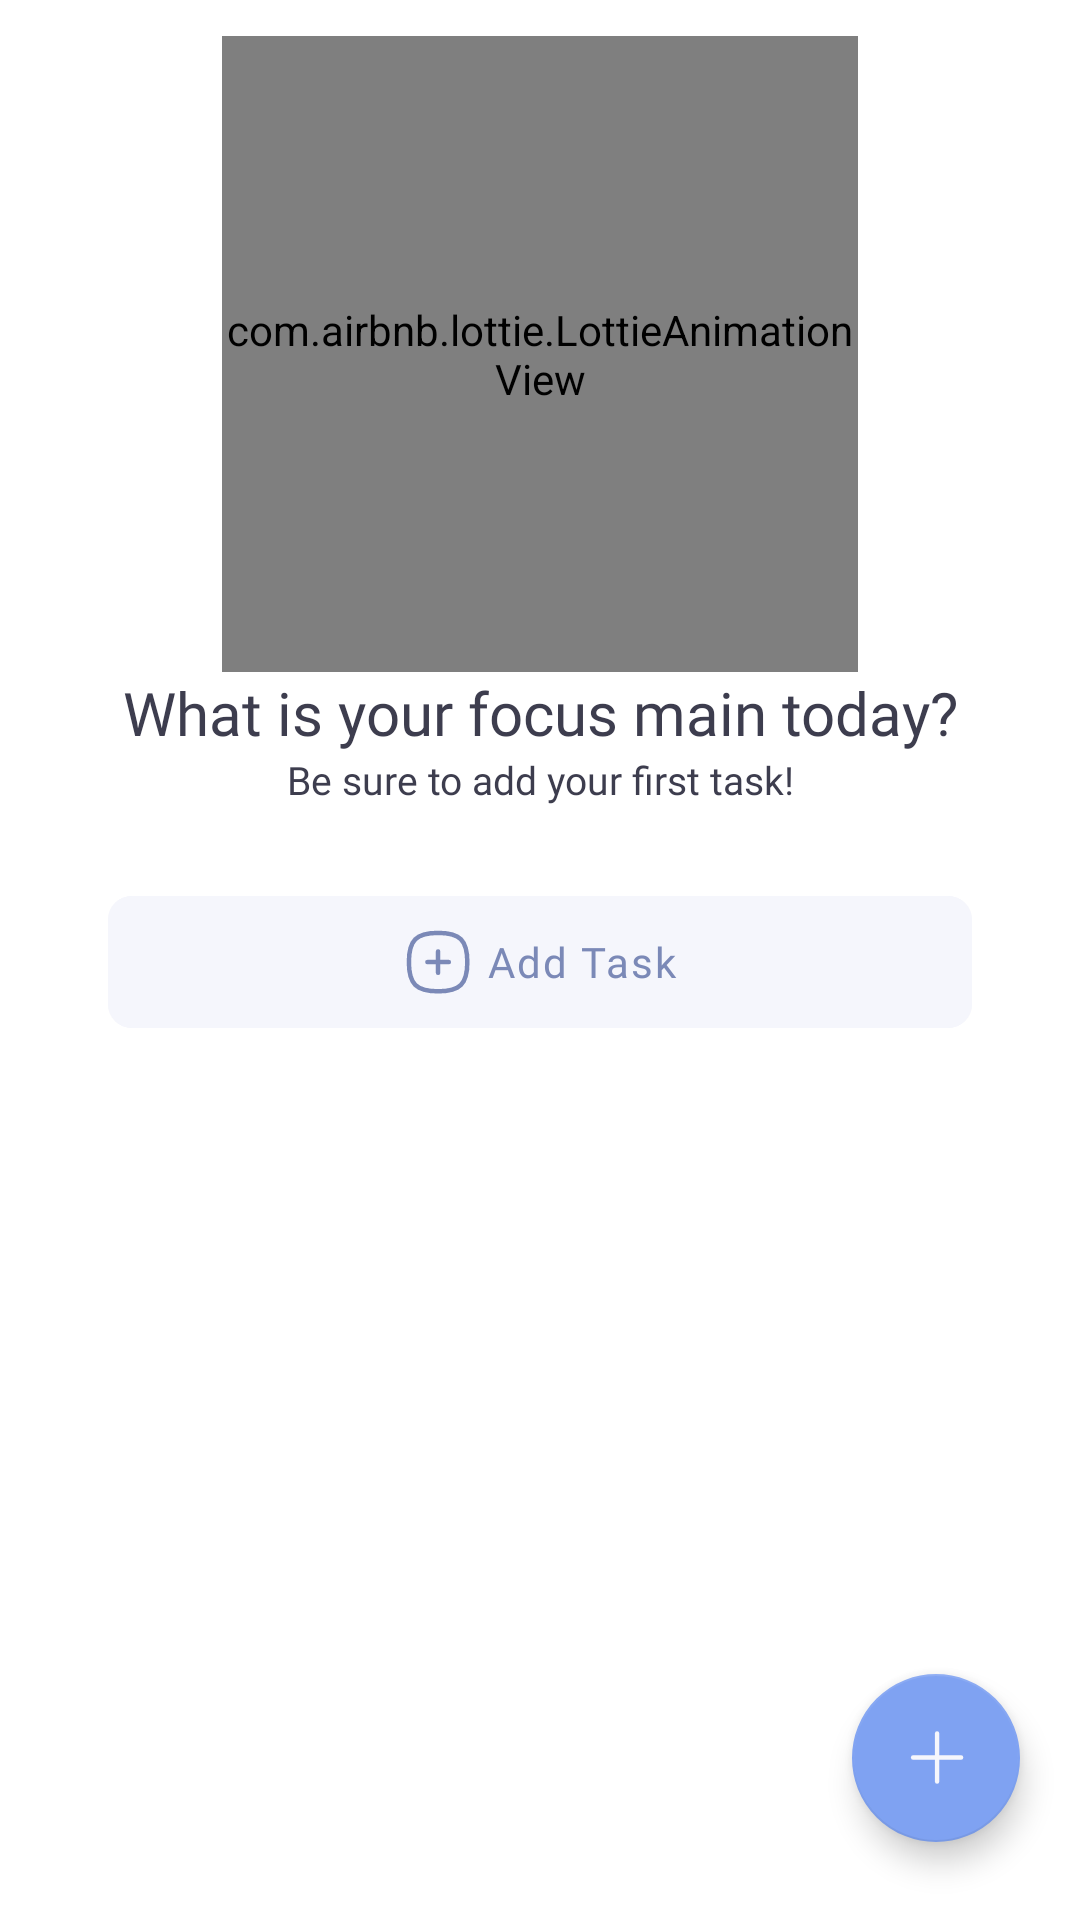

Icons on this 1080px x 1920px Android screen, each with the point to tap as point (x, y):
plusbutton: point (937, 1766)
